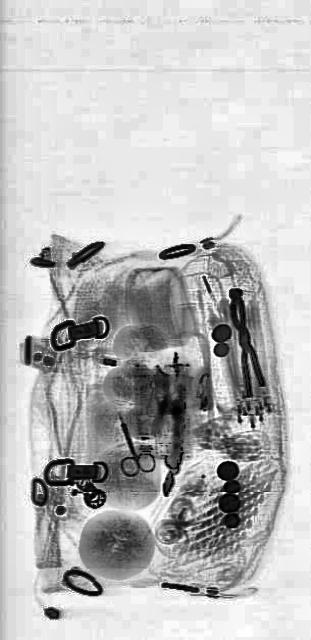Scissors: (108, 402, 156, 498)
